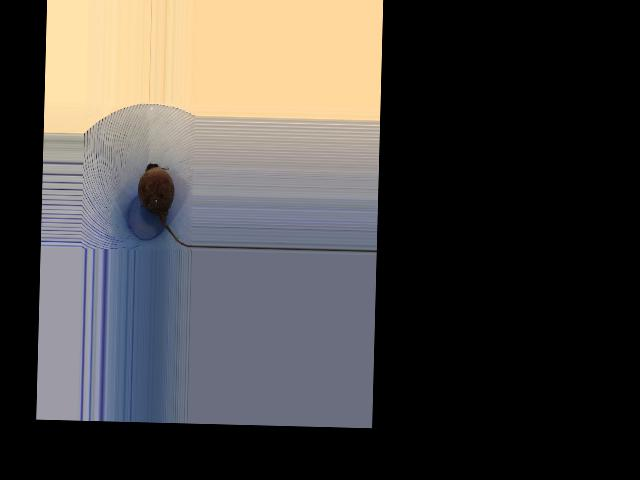beet: (136, 162, 195, 246)
